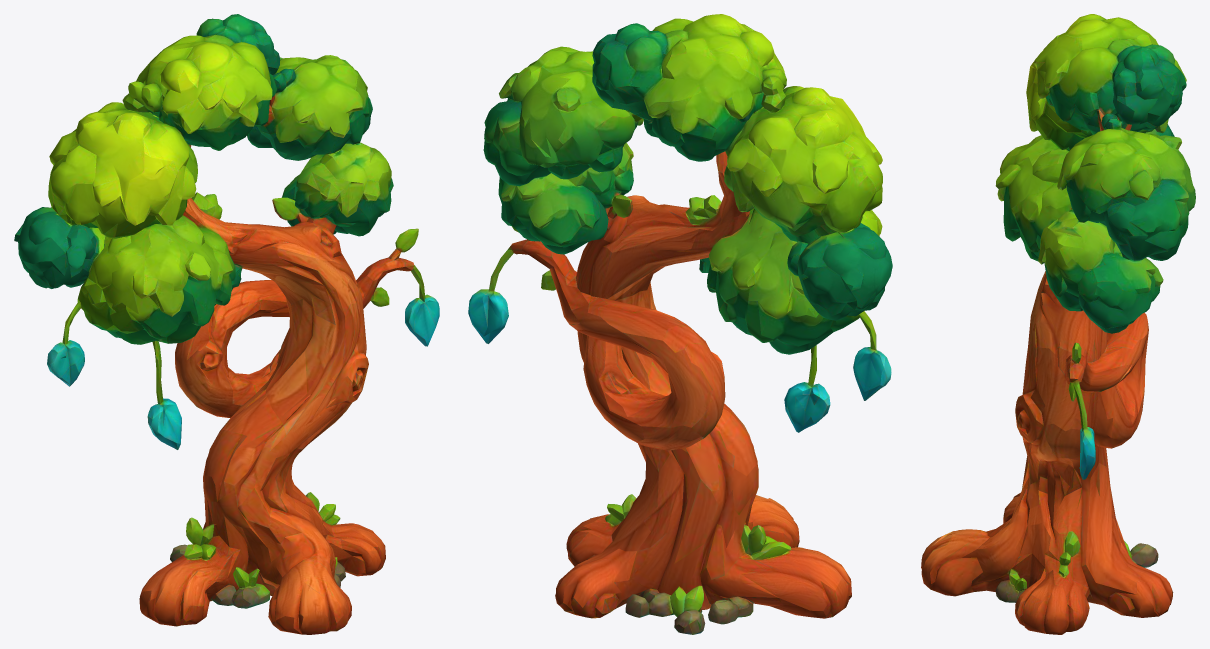
The model's file is whimsywood-tree.glb.
3 renders of one model, left to right at view 1: azimuth 30°, elevation 25°; view 2: azimuth 150°, elevation 25°; view 3: azimuth 270°, elevation 25°, orthographic. The views are drawn at different scales.
Visible parts, largest first — view 1: output_unwrapped; view 2: output_unwrapped; view 3: output_unwrapped.
Boxes of the visible parts, <box> form: output_unwrapped: <box>14,14,439,634</box>; output_unwrapped: <box>468,14,892,634</box>; output_unwrapped: <box>921,14,1195,634</box>.
Bounding box in the file's own units: 1.47 × 1.9 × 0.875.
Materials: 1 (1 with a texture image).
